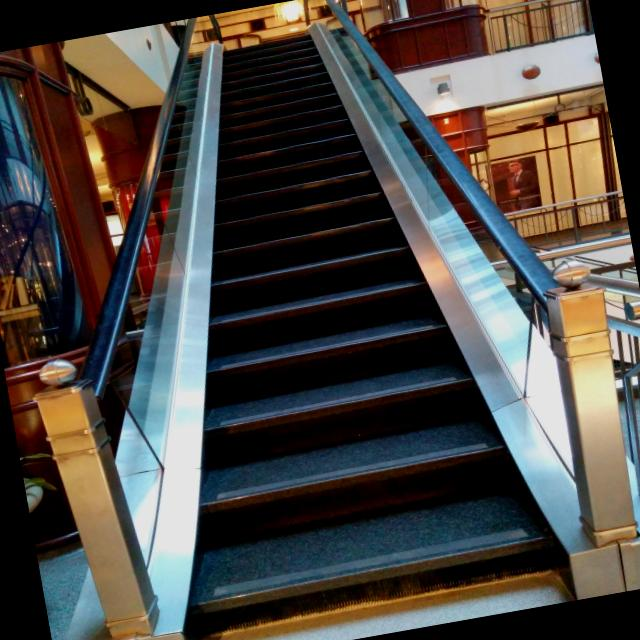Stairs: (20, 0, 640, 640)
